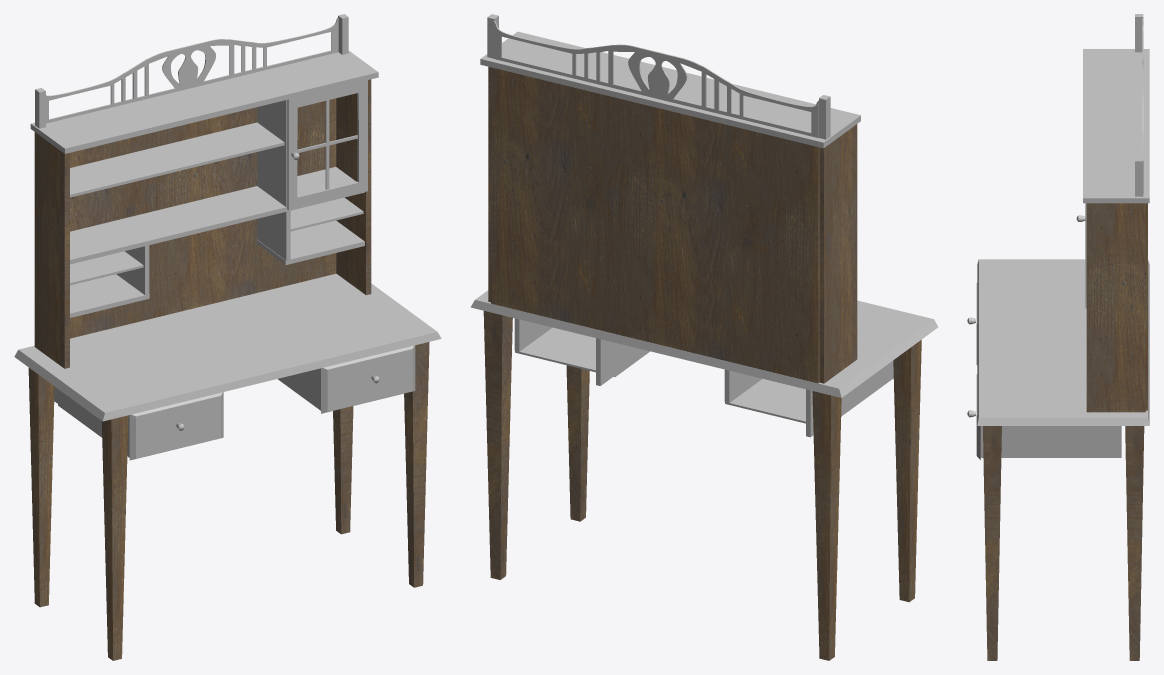
The model's file is Desk_01.DAE.
The picture shows the model from 3 angles, left to right: view 1: azimuth 30°, elevation 25°; view 2: azimuth 150°, elevation 25°; view 3: azimuth 270°, elevation 25°; orthographic projection. The views are drawn at different scales.
Parts seen in each view (by area): view 1: Desk_One300, DeskDoor300; view 2: Desk_One300; view 3: Desk_One300.
Boxes of the visible parts, x1,y1,x2,y2 form: Desk_One300: [14, 14, 441, 660]; DeskDoor300: [287, 80, 367, 210]; Desk_One300: [470, 14, 938, 660]; Desk_One300: [967, 14, 1149, 660].
Size of what is drawn, in the model's own units: 186 by 88.6 by 271.
